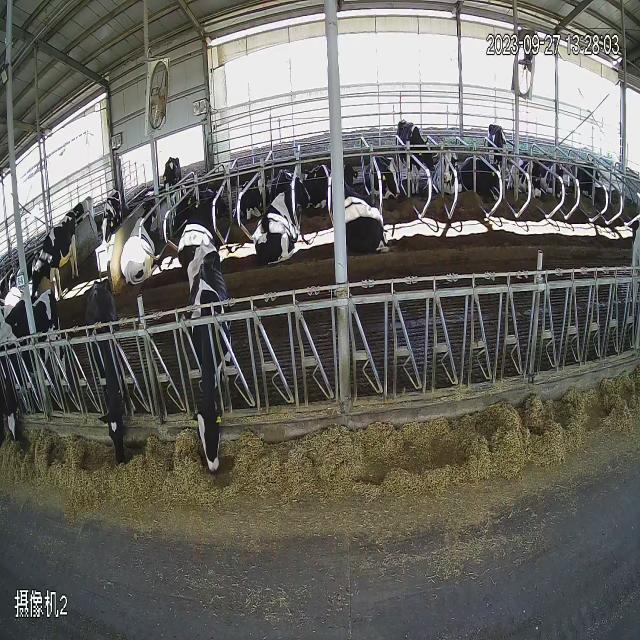drinking: (96, 182, 130, 260)
feeding: (84, 270, 138, 529), (189, 242, 239, 520)
lying down: (509, 145, 621, 222), (328, 156, 390, 280), (440, 132, 500, 235), (250, 176, 312, 268)
standing: (20, 210, 80, 300), (58, 182, 98, 234)
